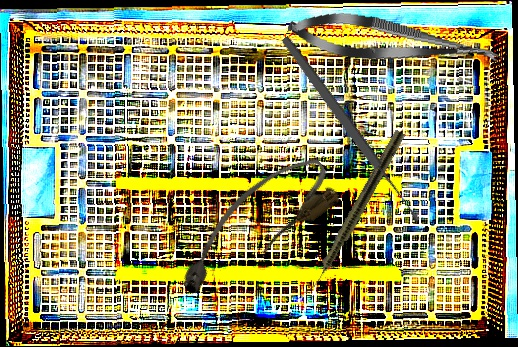Cannula: (160, 145, 346, 305)
Handpiece: (302, 128, 407, 299)
Micro Scissor: (284, 5, 507, 79)
Surgical Spoon: (279, 34, 423, 225)
